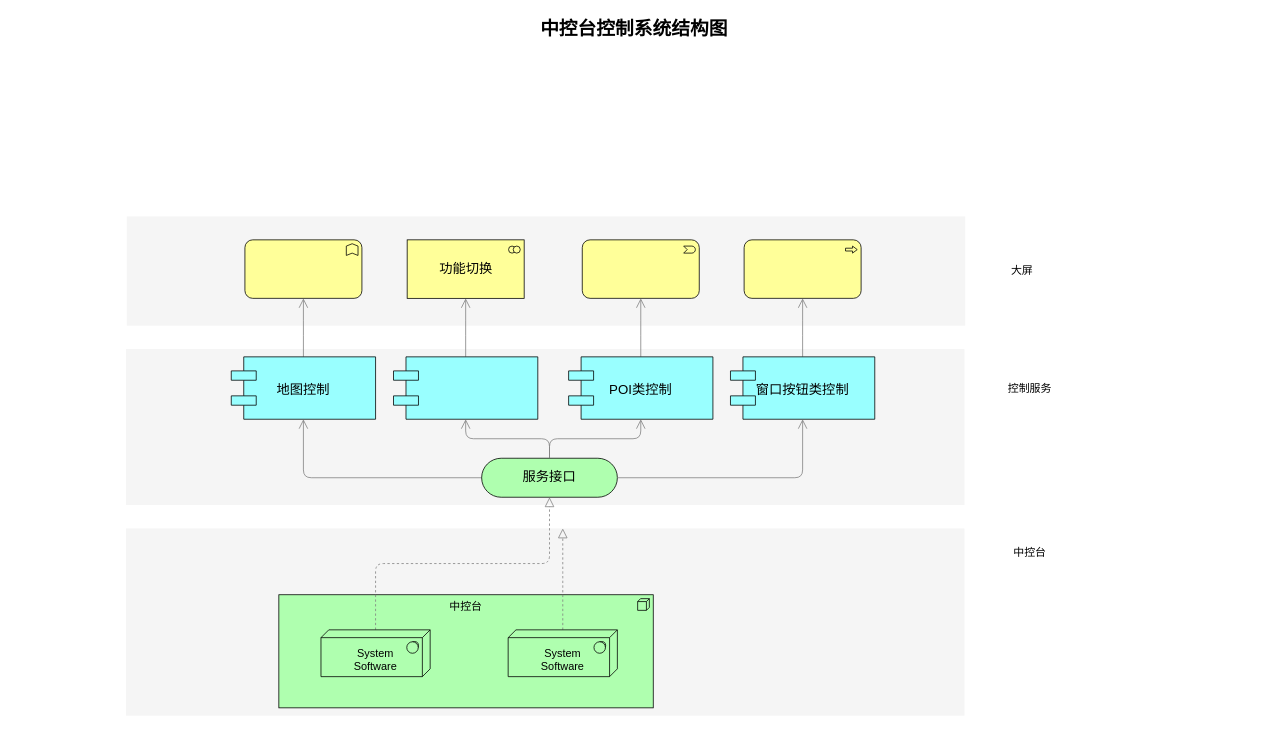
Image size: 1267x729. Some labels were removed from this diagram. The shapes that lost their labels are listed below. From the top down, each one's centre as x and y in pixels, then its label:
At pixel 303 268: "拖动地图放大缩小".
At pixel 640 268: "地图撒点 撒点详情".
At pixel 802 268: "窗口控制 窗口内容控制".
At pixel 465 387: "菜单类控制".
